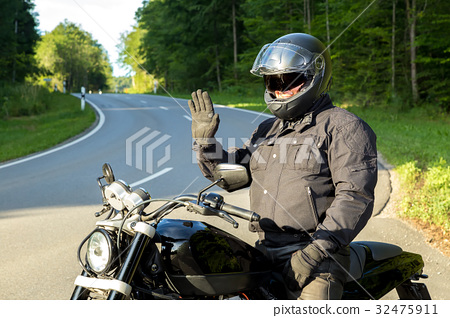helmet: (256, 31, 331, 111)
